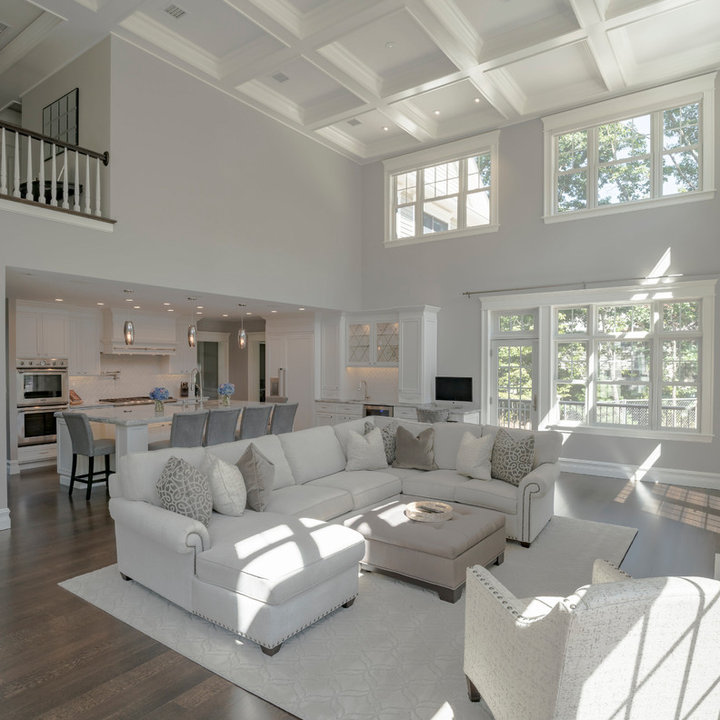chair: (458, 552, 720, 720)
dining table set: (58, 392, 297, 501)
flower vase: (144, 383, 172, 414), (215, 379, 239, 407)
sofa: (103, 412, 565, 657)
table: (347, 494, 507, 606)
